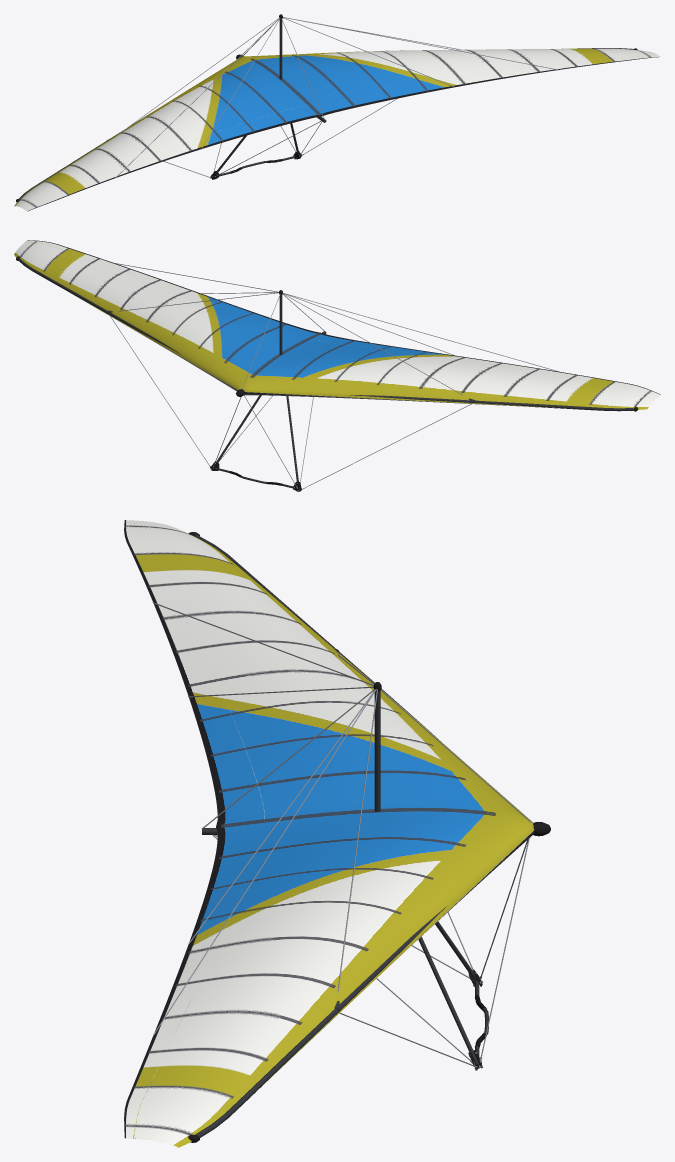
The model's file is glider_bautek_astir.glb.
3 renders of one model, top to bottom at view 1: azimuth 30°, elevation 25°; view 2: azimuth 150°, elevation 25°; view 3: azimuth 270°, elevation 25°, orthographic. The views are drawn at different scales.
Parts seen in each view (by area): view 1: Sail, Frame, ControlFrame; view 2: Sail, Frame, ControlFrame; view 3: Sail, Frame, ControlFrame.
Part boxes in pixels (x1=…): Sail: x1=14, y1=48, x2=660, y2=211; Frame: x1=16, y1=14, x2=637, y2=202; ControlFrame: x1=163, y1=98, x2=397, y2=179; Sail: x1=14, y1=240, x2=660, y2=409; Frame: x1=16, y1=256, x2=638, y2=411; ControlFrame: x1=110, y1=316, x2=471, y2=491; Sail: x1=124, y1=520, x2=534, y2=1147; Frame: x1=153, y1=532, x2=550, y2=1142; ControlFrame: x1=212, y1=834, x2=529, y2=1070.
Size of the model in its own units: 10.55 by 2.76 by 3.08.
8 materials, 1 textured.
